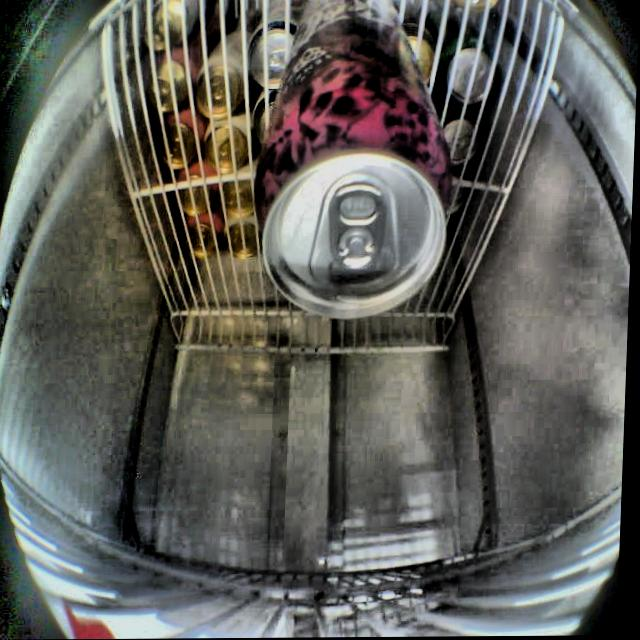can: (247, 0, 477, 328)
